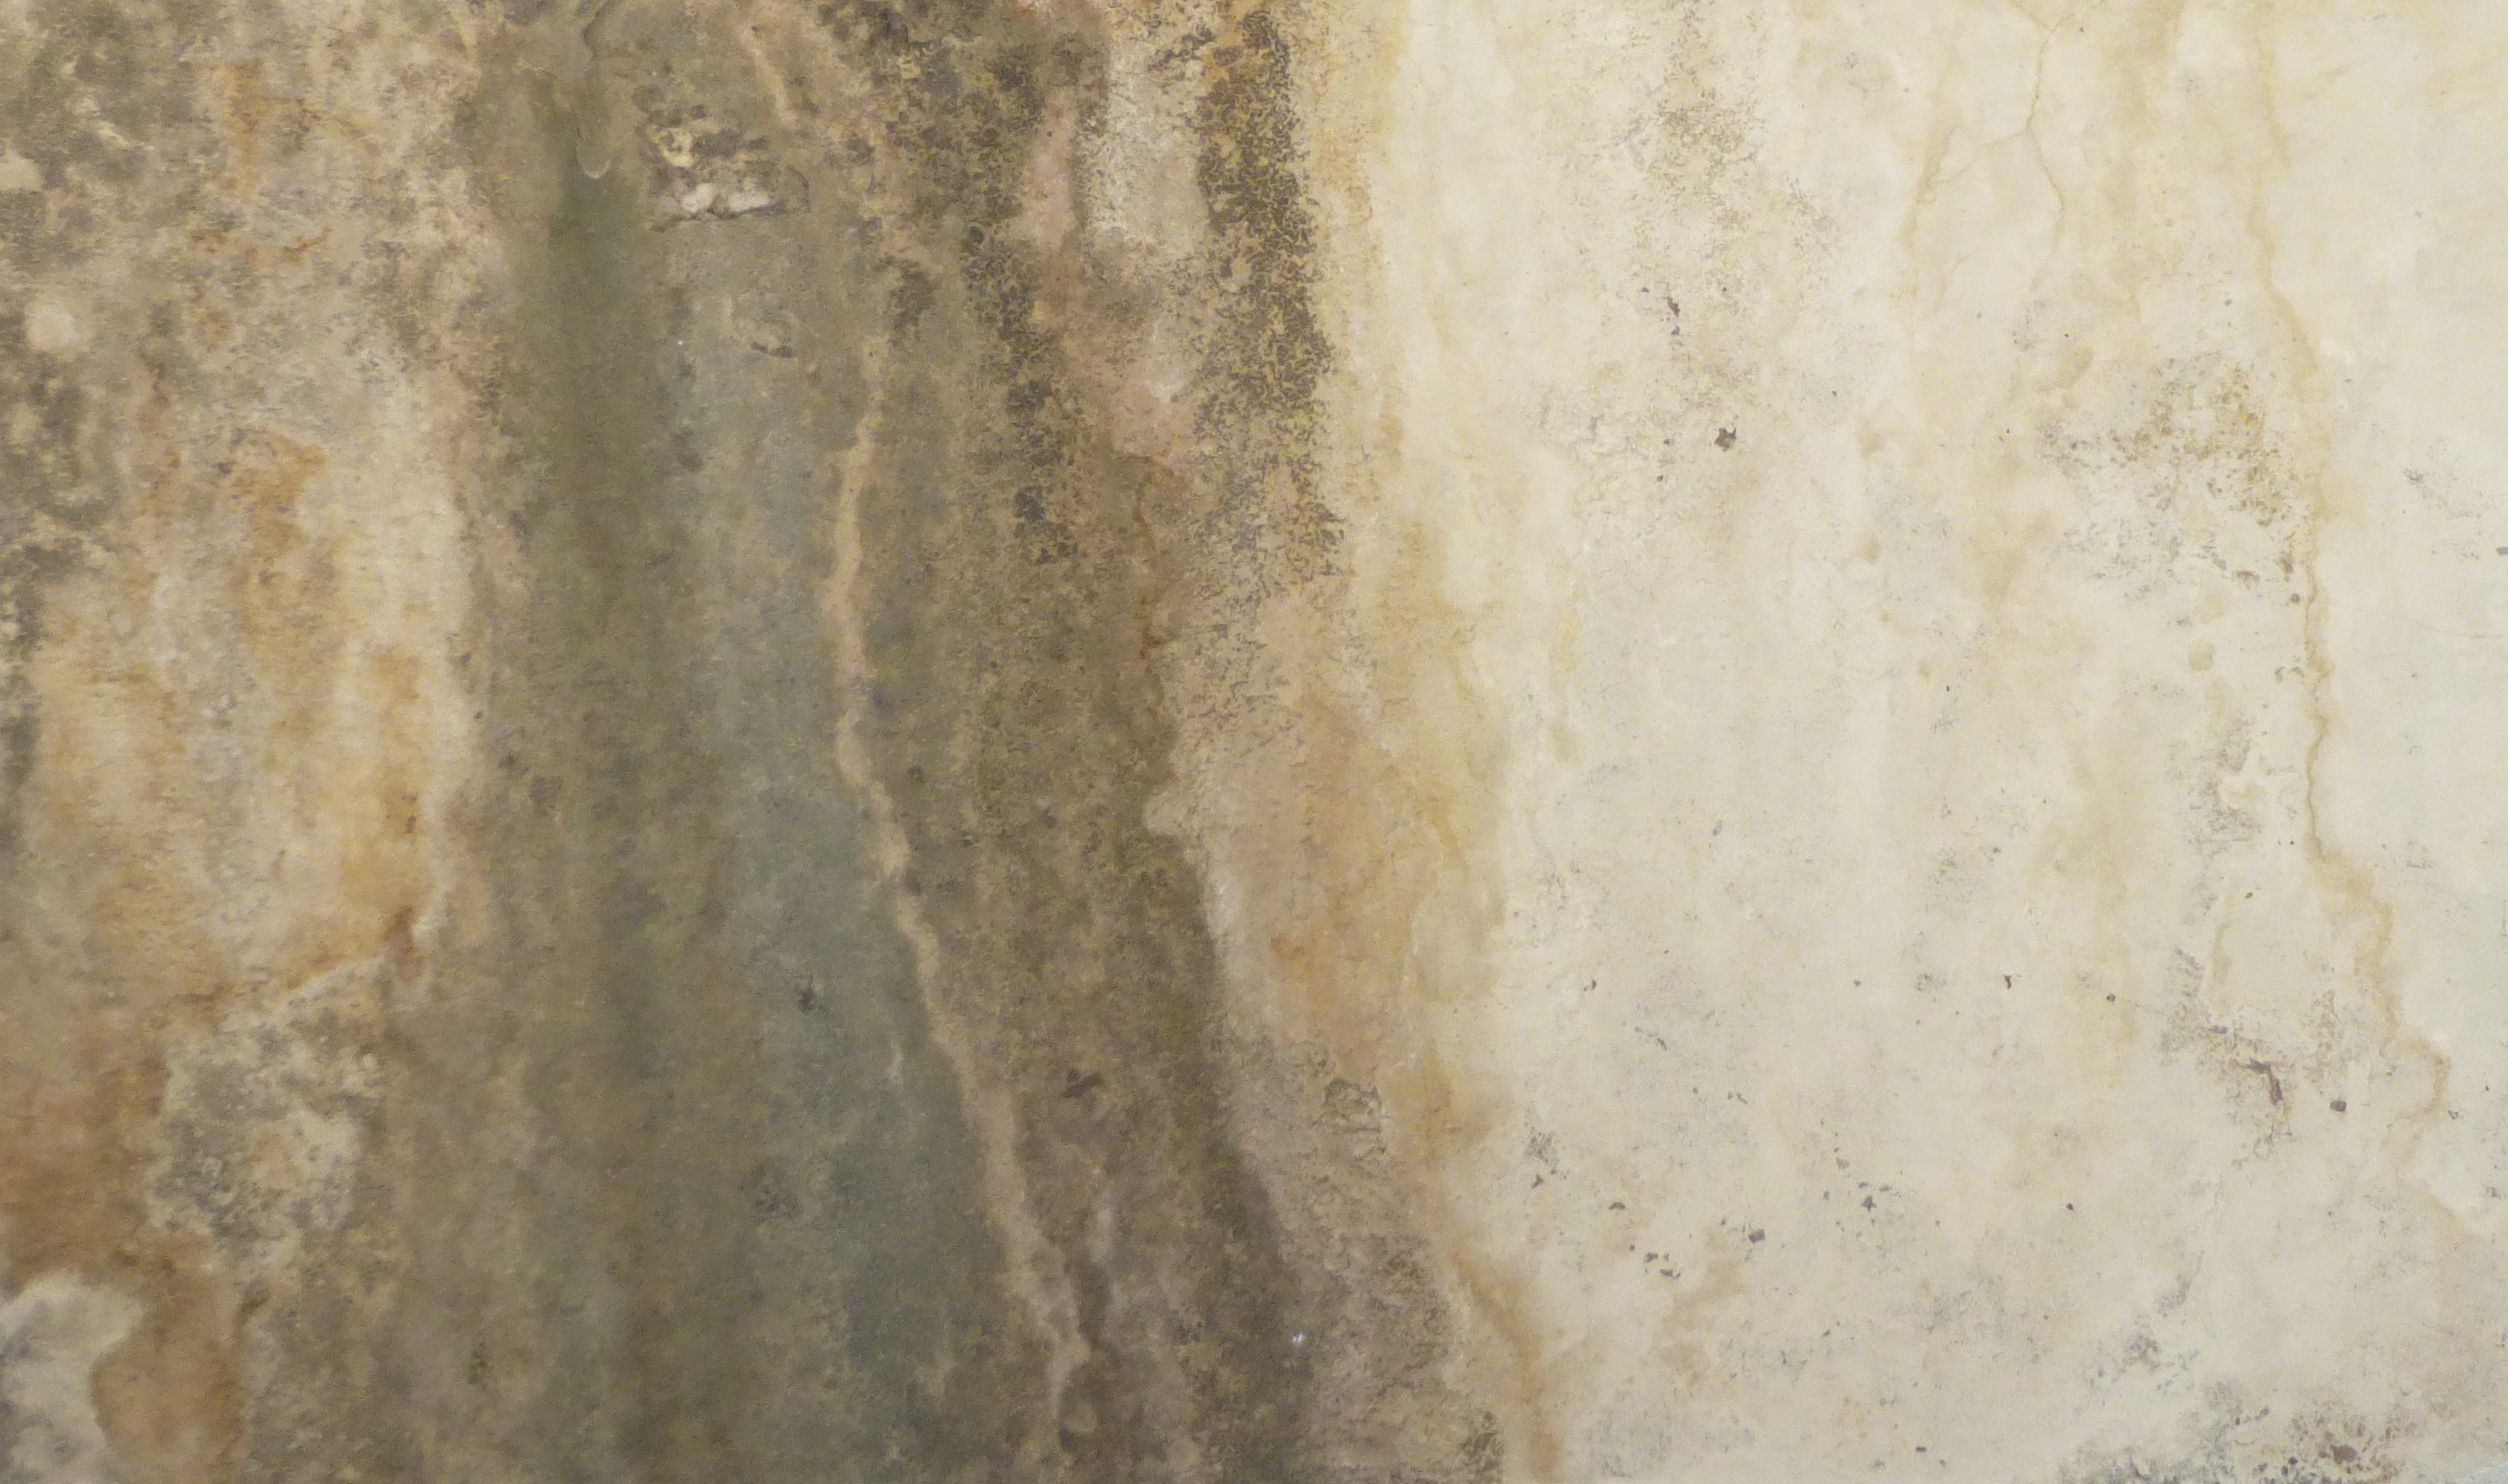Corrosion: (0, 0, 1563, 1484)
